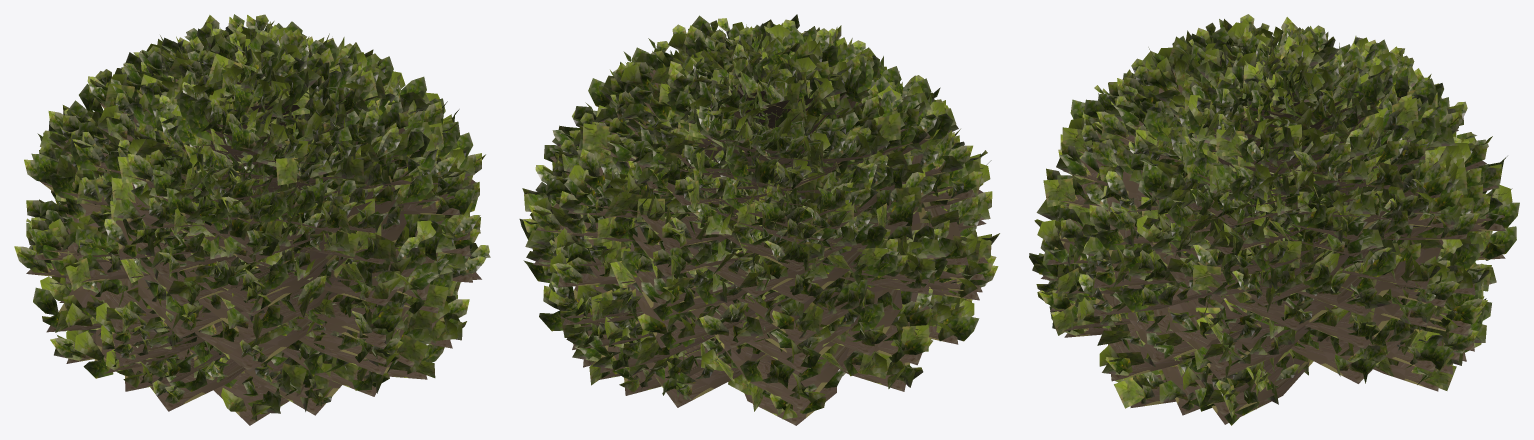
The model's file is SM_Bush.fbx.
3 views of the same model, side by side, from view 1: azimuth 30°, elevation 25°; view 2: azimuth 150°, elevation 25°; view 3: azimuth 270°, elevation 25° (orthographic). The views are drawn at different scales.
Visible parts, largest first — view 1: SM_Bush; view 2: SM_Bush; view 3: SM_Bush.
Boxes of the visible parts, x1=… form: SM_Bush: x1=14, y1=14, x2=490, y2=425; SM_Bush: x1=519, y1=14, x2=999, y2=425; SM_Bush: x1=1029, y1=14, x2=1519, y2=425.
Size of the model in its own units: 110 by 111 by 83.55.
Materials: 2 (2 with a texture image).
